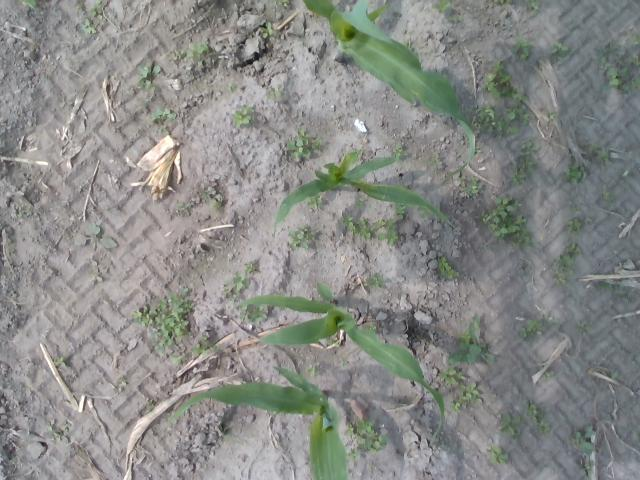Maize: (231, 281, 445, 444), (300, 0, 477, 181), (166, 365, 350, 480), (273, 150, 458, 229)
Weeds: (132, 287, 195, 365), (476, 197, 534, 250), (446, 312, 495, 367), (462, 102, 532, 136), (482, 57, 530, 103), (597, 44, 640, 94), (342, 213, 400, 245), (344, 419, 388, 460), (508, 140, 540, 186), (548, 244, 580, 286), (73, 222, 118, 251), (285, 127, 321, 159), (450, 382, 482, 414), (523, 402, 550, 436), (586, 140, 613, 170), (568, 426, 596, 454), (150, 106, 177, 134), (137, 60, 161, 91), (288, 225, 314, 252), (497, 411, 522, 439), (485, 443, 510, 468), (230, 104, 255, 129), (517, 318, 542, 342), (560, 161, 586, 184), (549, 39, 574, 62), (439, 366, 466, 386), (192, 334, 219, 354), (437, 256, 459, 280), (46, 420, 70, 442), (227, 270, 250, 292), (512, 37, 534, 60), (200, 188, 222, 211), (239, 304, 267, 322), (458, 175, 482, 196), (566, 216, 592, 234), (187, 42, 211, 60), (578, 459, 596, 480), (363, 274, 386, 288), (89, 260, 103, 283), (88, 0, 104, 20), (304, 193, 322, 210), (431, 0, 451, 14), (258, 21, 274, 38), (80, 18, 96, 34), (392, 144, 408, 160), (393, 202, 408, 218), (416, 204, 433, 218), (268, 86, 283, 100), (576, 322, 595, 333), (222, 288, 238, 301), (444, 14, 464, 24), (219, 424, 233, 438), (325, 334, 340, 347), (430, 153, 442, 169), (627, 31, 640, 45), (602, 190, 615, 204), (352, 197, 366, 210), (177, 202, 190, 216), (304, 364, 319, 376), (514, 267, 534, 276), (18, 0, 38, 9), (172, 48, 185, 60), (525, 0, 540, 10), (270, 0, 288, 8), (53, 356, 66, 367), (243, 262, 256, 272), (598, 282, 614, 290), (542, 369, 554, 379), (547, 316, 560, 325), (548, 111, 558, 120), (610, 372, 620, 380), (16, 210, 26, 218), (59, 100, 72, 106), (146, 402, 153, 413), (493, 0, 512, 4), (571, 205, 580, 213), (368, 322, 377, 330), (120, 378, 127, 386), (340, 359, 348, 366), (228, 84, 235, 91)
